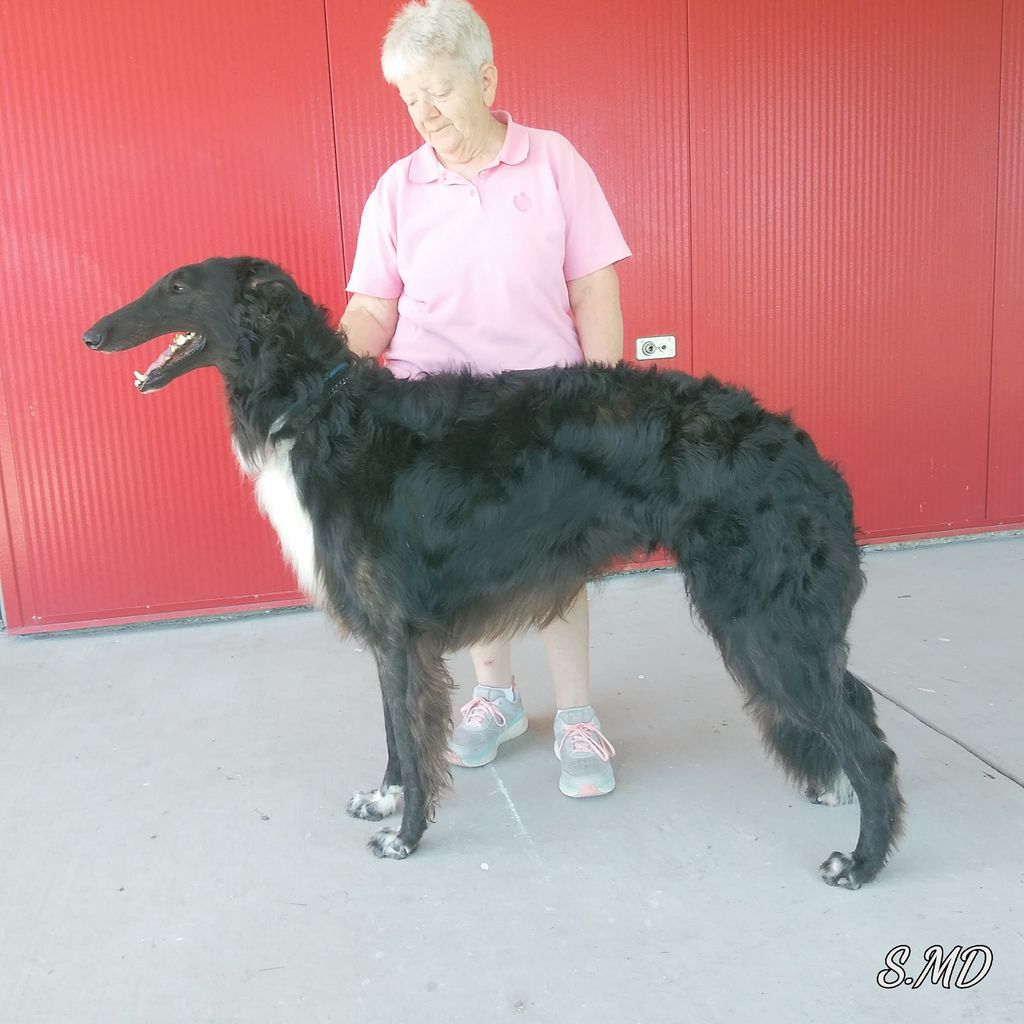borzoi: (48, 236, 930, 895)
